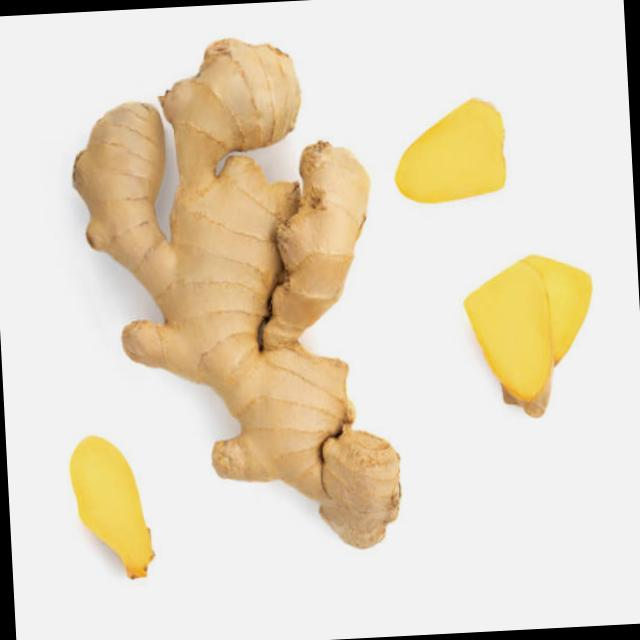ginger-root: (28, 18, 425, 583)
